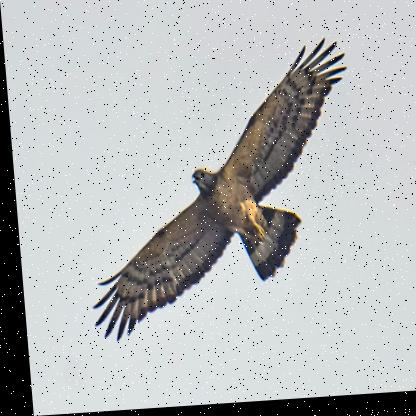Burung: (69, 32, 364, 347)
